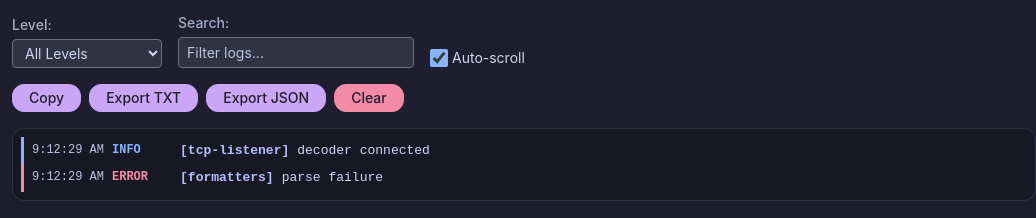
Scenario: LogsViewer › NIT-10: search filtering › clearing the search term restores the active level filter's matches
The image size is (1036, 218).
Type "decoder" into the field labelled "Search:" at (296, 52), box top-left (178, 37), bottom-right (414, 68)
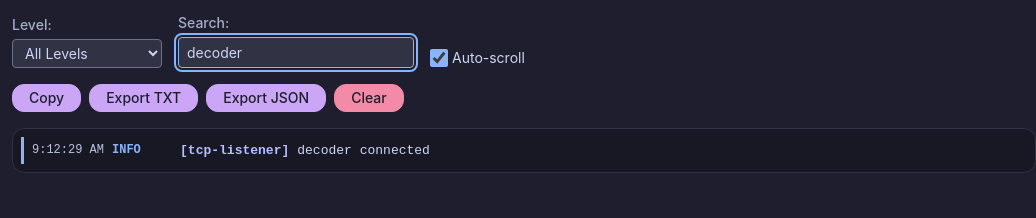
Expected: the number of elements with class "log-entry" is 1, top-left (21, 136), bottom-right (1027, 164)
Clear the field labelled "Search:" at (296, 52), box top-left (178, 37), bottom-right (414, 68)
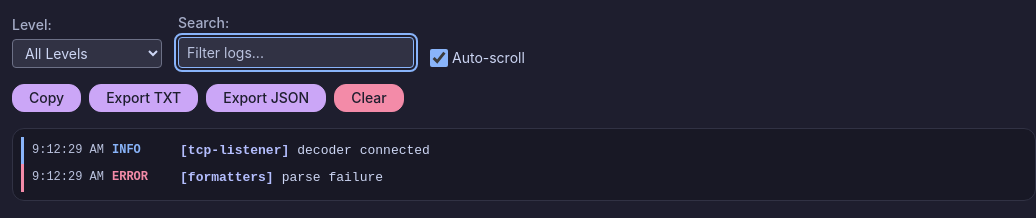
Expected: the number of elements with class "log-entry" is 2, top-left (21, 136), bottom-right (1027, 164); top-left (21, 164), bottom-right (1027, 192)
